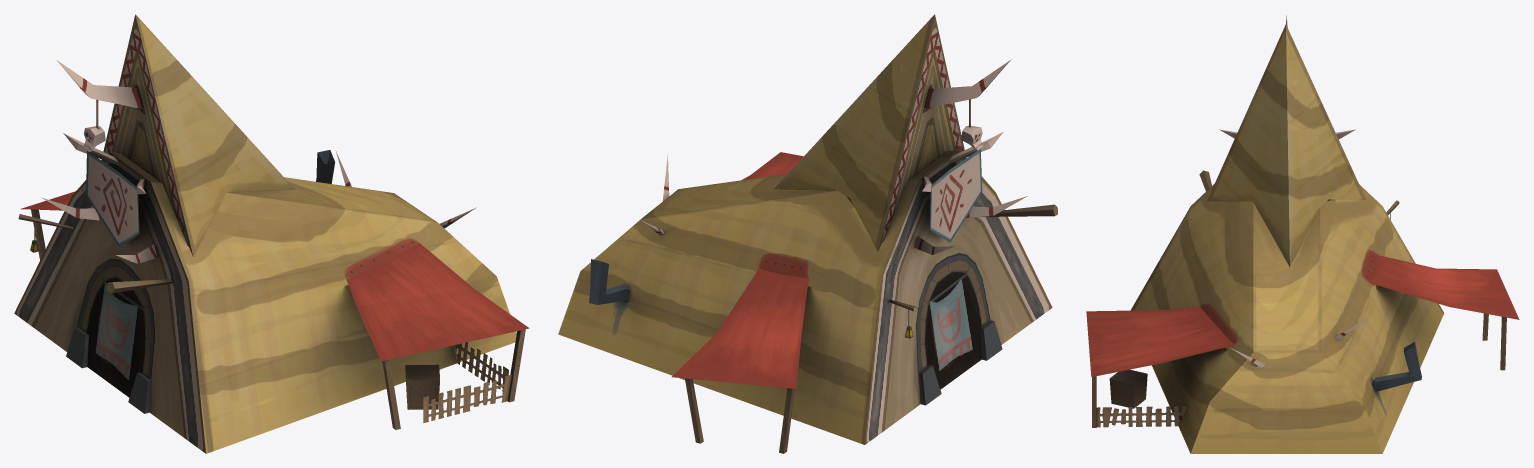
Rendered from FANTASY_HOUSE.fbx.
3 renders of one model, left to right at view 1: azimuth 30°, elevation 25°; view 2: azimuth 150°, elevation 25°; view 3: azimuth 270°, elevation 25°, orthographic. The views are drawn at different scales.
Parts seen in each view (by area): view 1: BASE.001; view 2: BASE.001; view 3: BASE.001.
Boxes of the visible parts, x1=… form: BASE.001: x1=14, y1=14, x2=529, y2=453; BASE.001: x1=558, y1=14, x2=1057, y2=453; BASE.001: x1=1086, y1=15, x2=1519, y2=453.
Bounding box in the file's own units: 401 × 347 × 451.
1 material, 1 textured.
